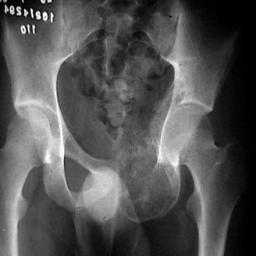cancer: (119, 159, 181, 222)
